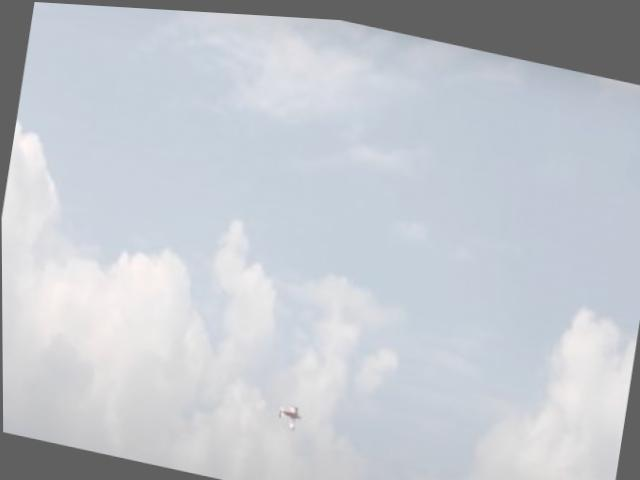uav: (273, 391, 306, 433)
